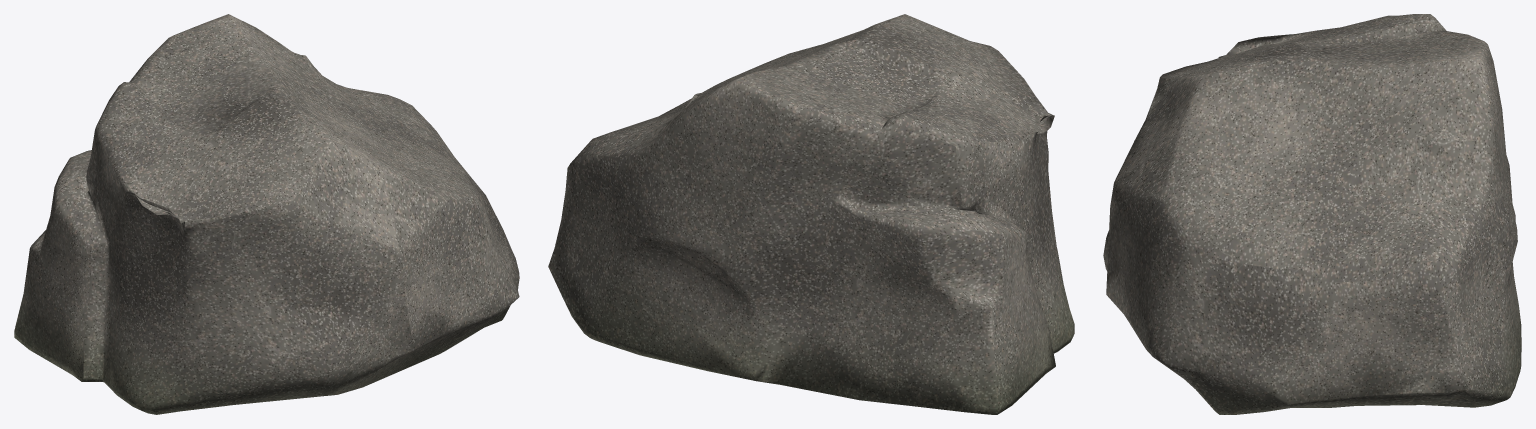
File: Rock_Medium_2.gltf
3 renders of one model, left to right at view 1: azimuth 30°, elevation 25°; view 2: azimuth 150°, elevation 25°; view 3: azimuth 270°, elevation 25°, orthographic. The views are drawn at different scales.
Visible parts, largest first — view 1: Rock_Medium_2; view 2: Rock_Medium_2; view 3: Rock_Medium_2.
Boxes of the visible parts, <box> form: Rock_Medium_2: <box>14,14,519,414</box>; Rock_Medium_2: <box>548,14,1074,414</box>; Rock_Medium_2: <box>1103,14,1521,414</box>.
Size of the model in its own units: 3.04 by 1.92 by 2.47.
Materials: 1 (1 with a texture image).
